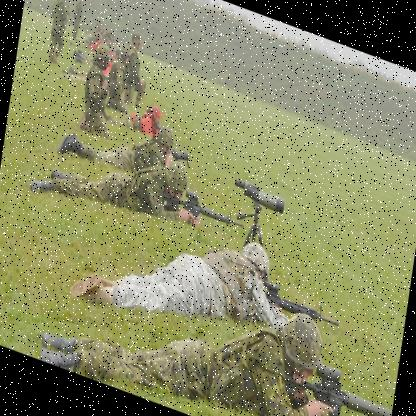rifle: (272, 352, 394, 416), (159, 180, 247, 242), (259, 272, 343, 330)
